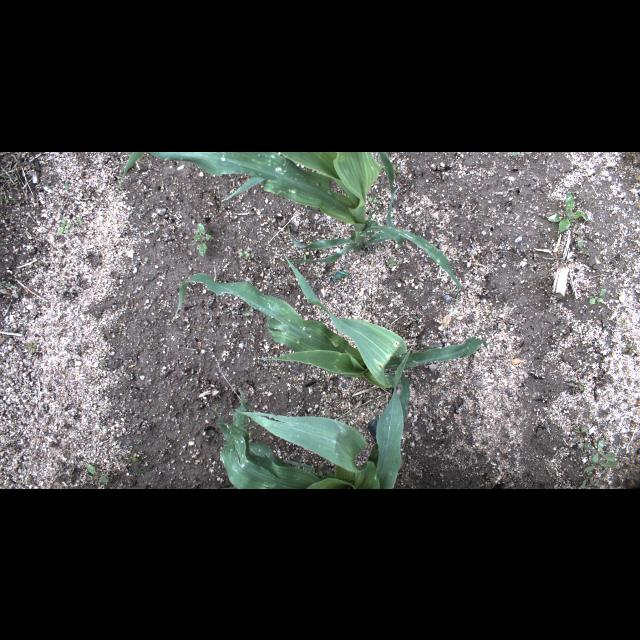crop: (170, 264, 496, 488), (117, 151, 459, 303), (219, 391, 379, 487)
weed: (544, 188, 588, 238), (582, 436, 620, 474), (188, 220, 218, 256), (82, 460, 110, 486), (0, 165, 18, 202), (562, 372, 586, 398), (588, 288, 614, 308), (571, 418, 591, 444), (500, 152, 536, 166), (575, 238, 595, 258), (54, 218, 76, 236), (618, 338, 638, 356), (126, 444, 140, 466), (235, 248, 255, 262), (24, 337, 38, 357), (330, 269, 352, 281), (578, 478, 604, 488), (2, 278, 22, 290), (61, 176, 73, 194), (384, 256, 398, 270), (450, 243, 464, 257), (137, 255, 151, 268), (407, 314, 427, 322), (74, 215, 86, 228)
